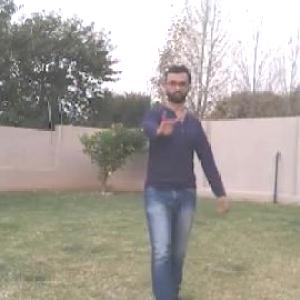takeoff-hand: (154, 102, 183, 139)
